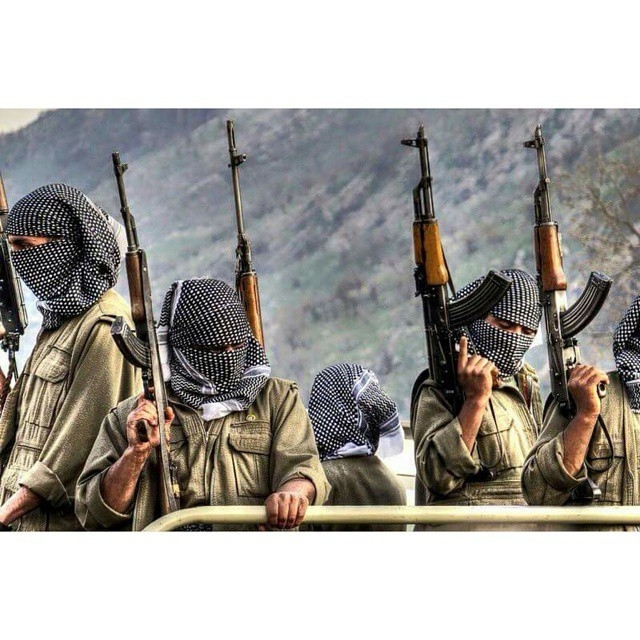AK47: (399, 123, 513, 408), (524, 122, 617, 422), (98, 147, 177, 461)
